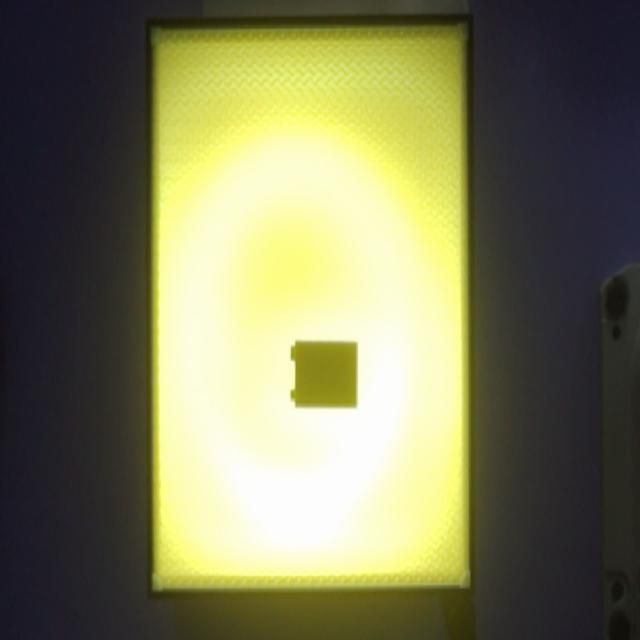bateria: (290, 338, 358, 410)
mesa: (146, 16, 476, 600)
